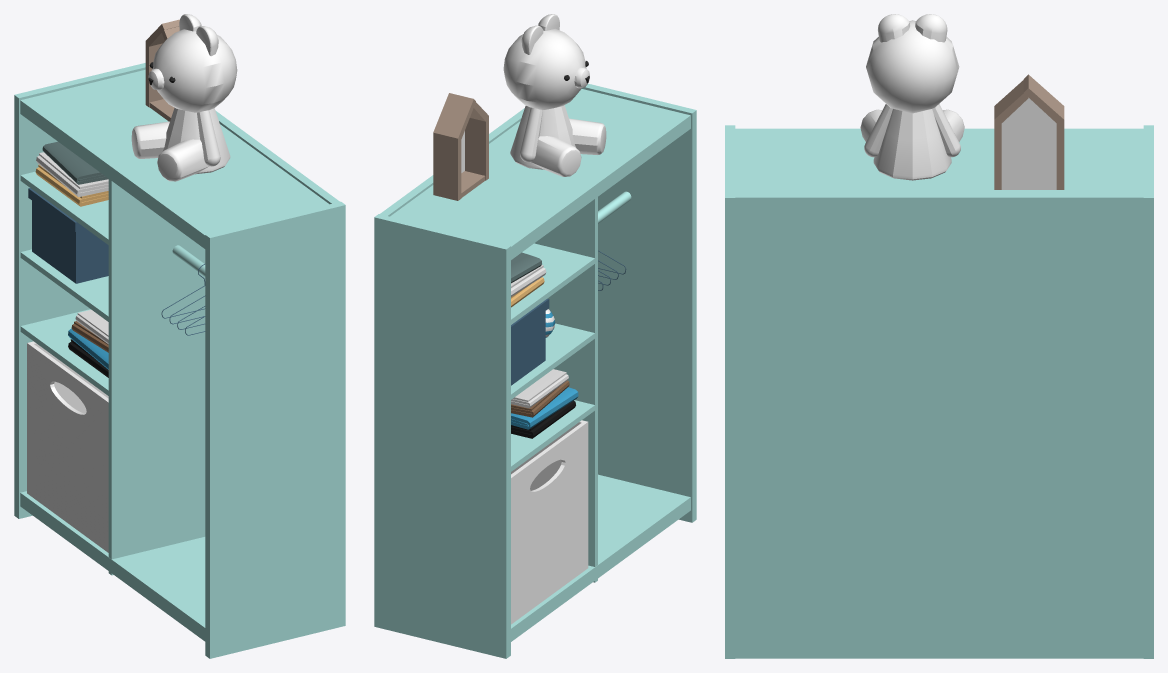
File: Furn1_chest_color4_joined.fbx
3 renders of one model, left to right at view 1: azimuth 30°, elevation 25°; view 2: azimuth 150°, elevation 25°; view 3: azimuth 270°, elevation 25°, orthographic. The views are drawn at different scales.
Visible parts, largest first — view 1: Куб.065; view 2: Куб.065; view 3: Куб.065.
Boxes of the visible parts, bbox=[...] form: Куб.065: bbox=[14, 14, 345, 658]; Куб.065: bbox=[374, 14, 696, 658]; Куб.065: bbox=[725, 14, 1153, 658].
Size of the model in its own units: 119 by 468 by 298.
